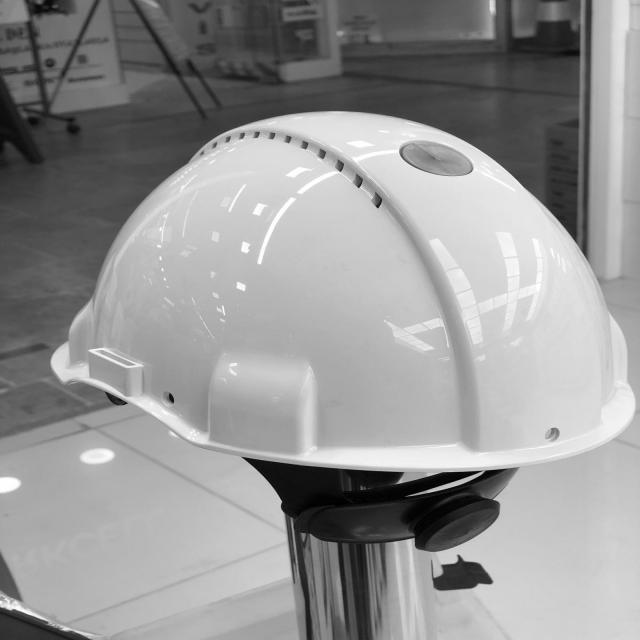safety_helmet: (49, 112, 636, 475)
